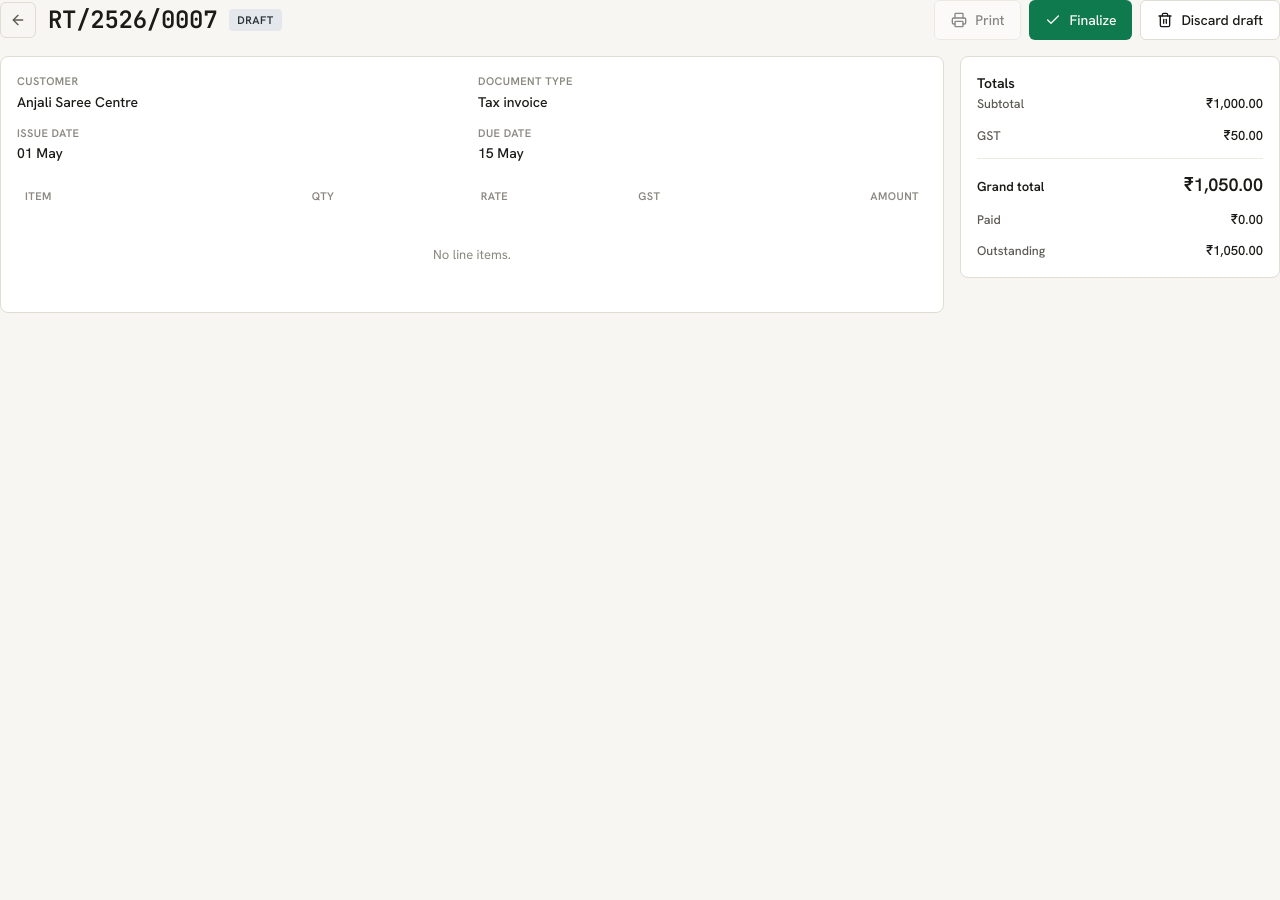
Test: InvoiceDetail — Discard draft › "Keep draft" closes the dialog without a request
The width and height of the screenshot is (1280, 900).
Step 1. Click the button "Discard draft" → (1210, 20), box x1=1140 y1=0 x2=1279 y2=40
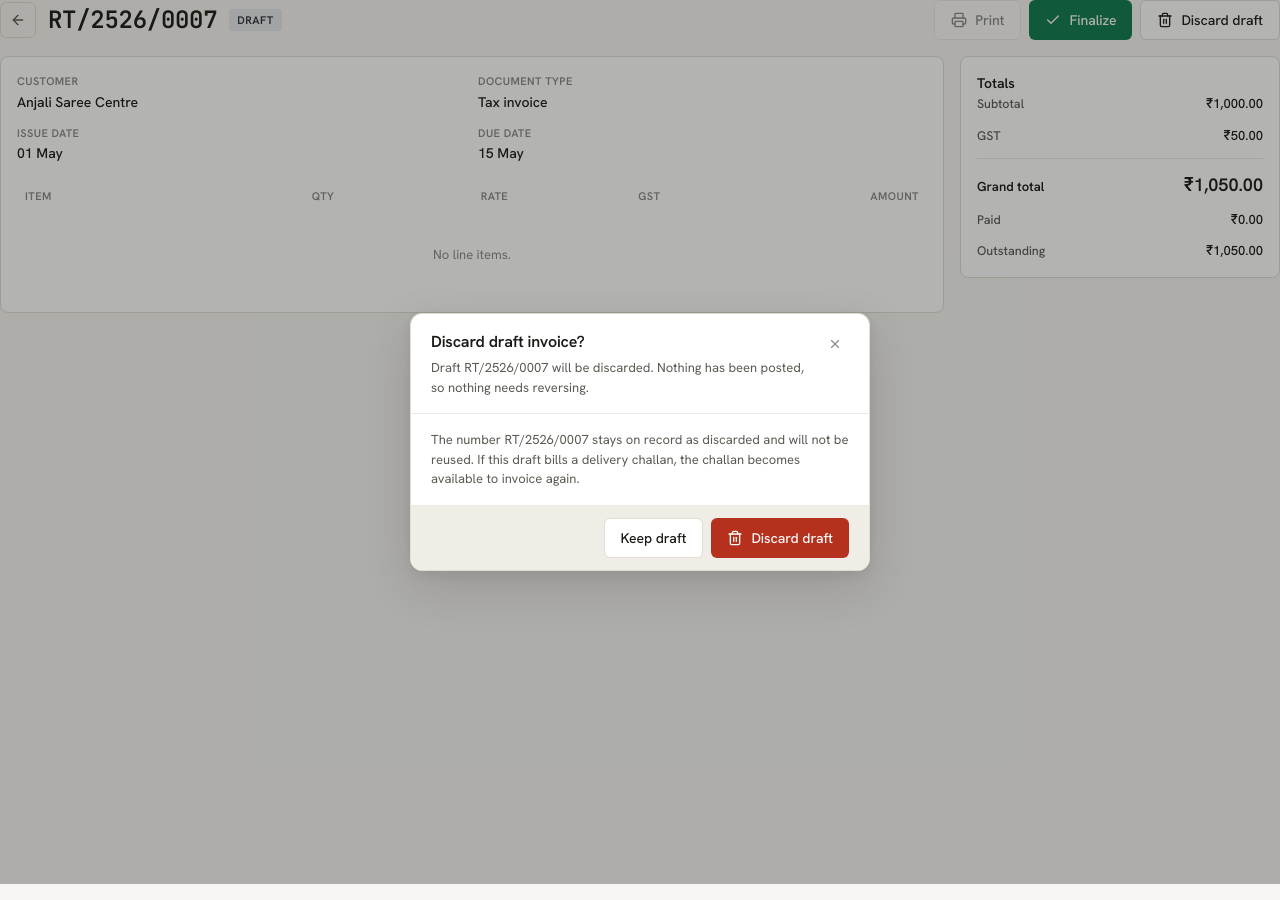
Step 2. Click the button "Keep draft" → (653, 538), box x1=604 y1=518 x2=703 y2=558
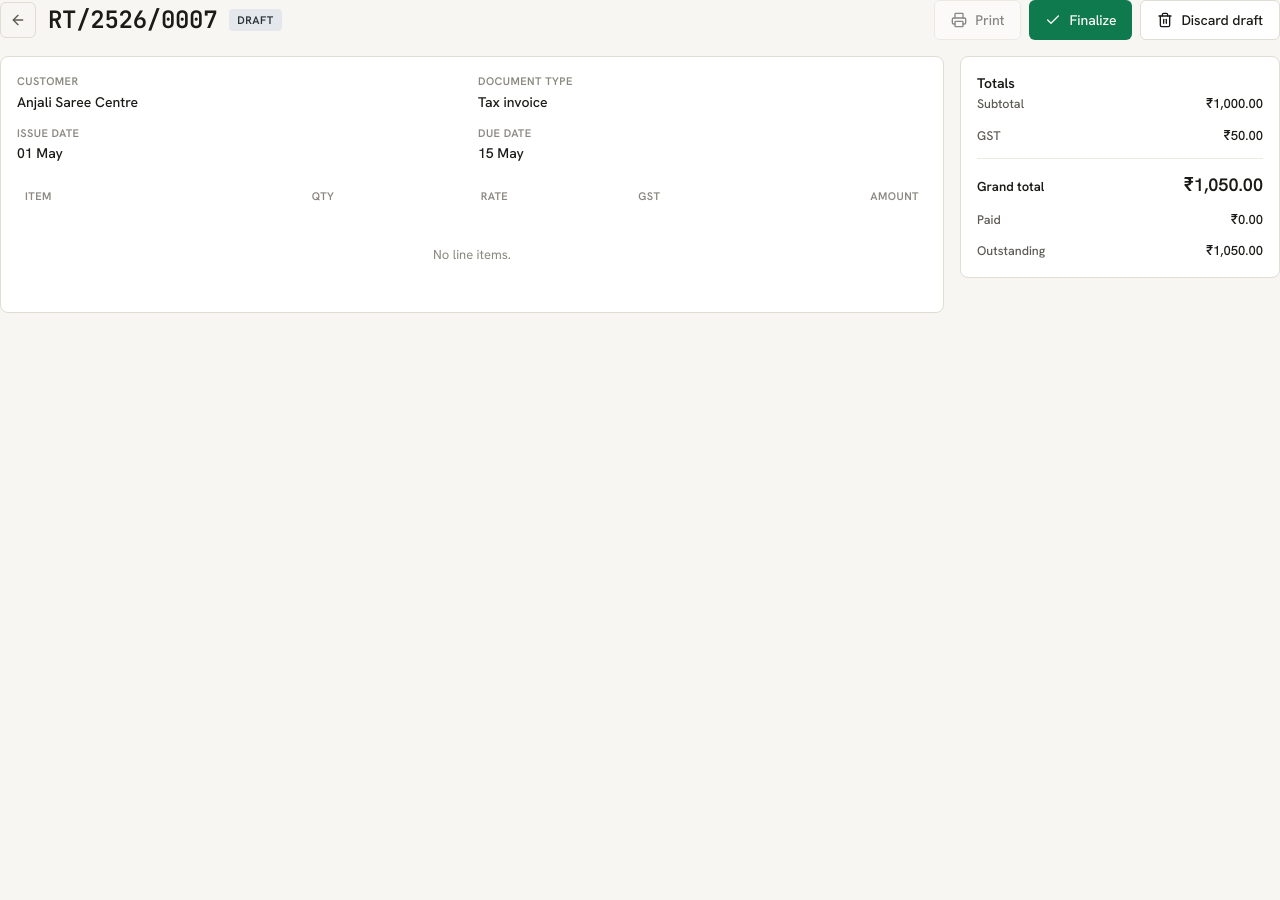
expect the dialog is gone: met
